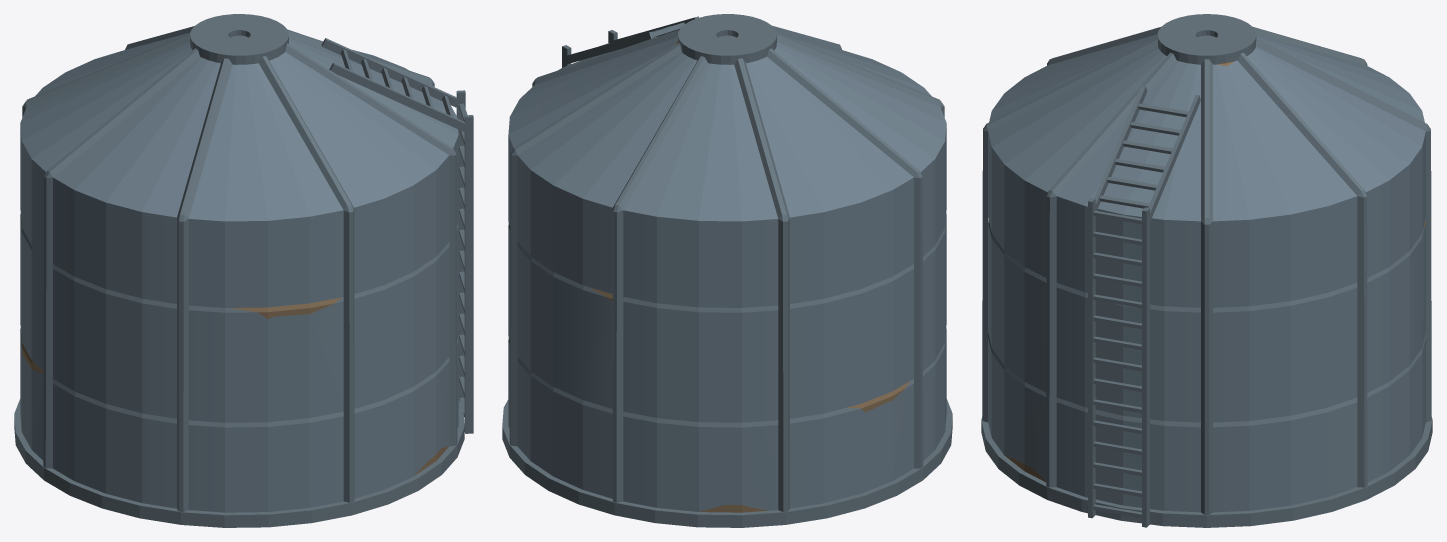
File: SM_Buildings_Port_02.fbx
3 renders of one model, left to right at view 1: azimuth 30°, elevation 25°; view 2: azimuth 150°, elevation 25°; view 3: azimuth 270°, elevation 25°, orthographic.
Parts seen in each view (by area): view 1: SM_Buildings_Port_02; view 2: SM_Buildings_Port_02; view 3: SM_Buildings_Port_02.
Part boxes in pixels (bbox=[...]): SM_Buildings_Port_02: bbox=[14, 14, 473, 527]; SM_Buildings_Port_02: bbox=[502, 14, 952, 527]; SM_Buildings_Port_02: bbox=[981, 14, 1432, 527].
Size of the model in its own units: 8.53 by 8.29 by 8.53.
